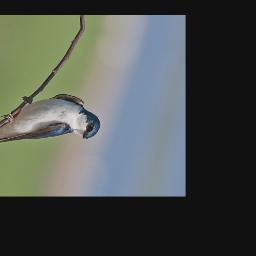Swallow: (0, 80, 108, 170)
